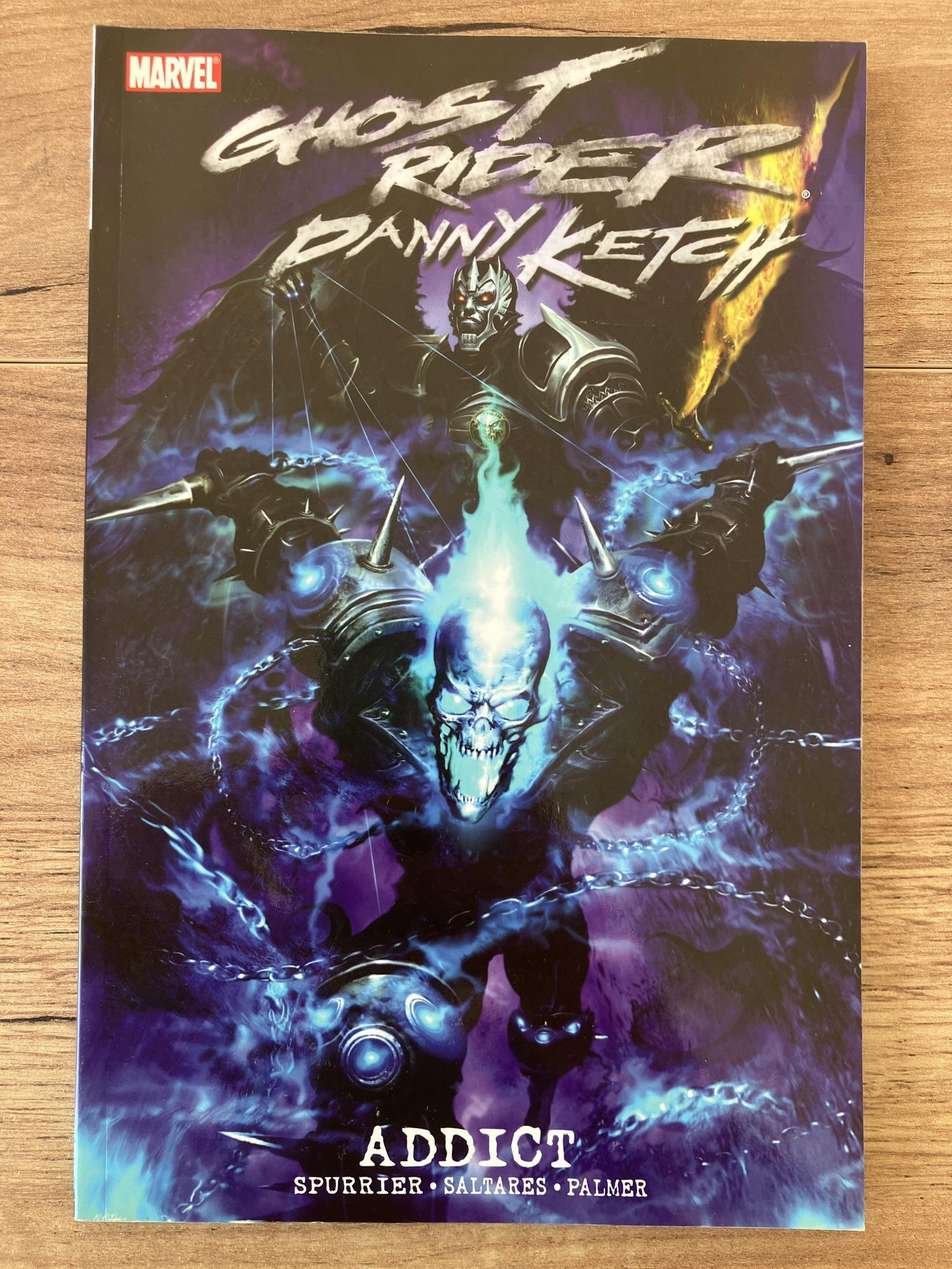comic: (75, 29, 875, 1228)
